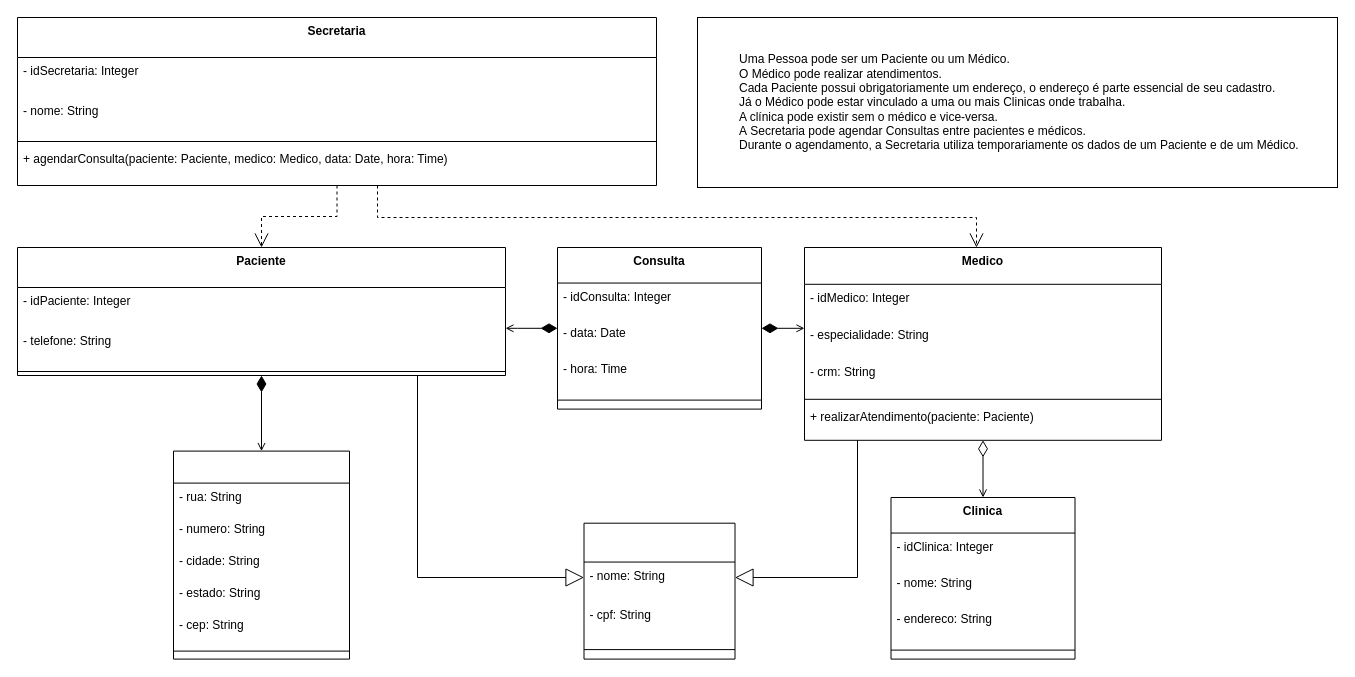
Some shapes in this 1355 by 677 pixel diagram are drawn without their labels. The box of each missing label's shape, as (x1, y1, x2, y2) in pixels:
Endereco: (172, 450, 350, 659)
Pessoa: (583, 522, 735, 659)
